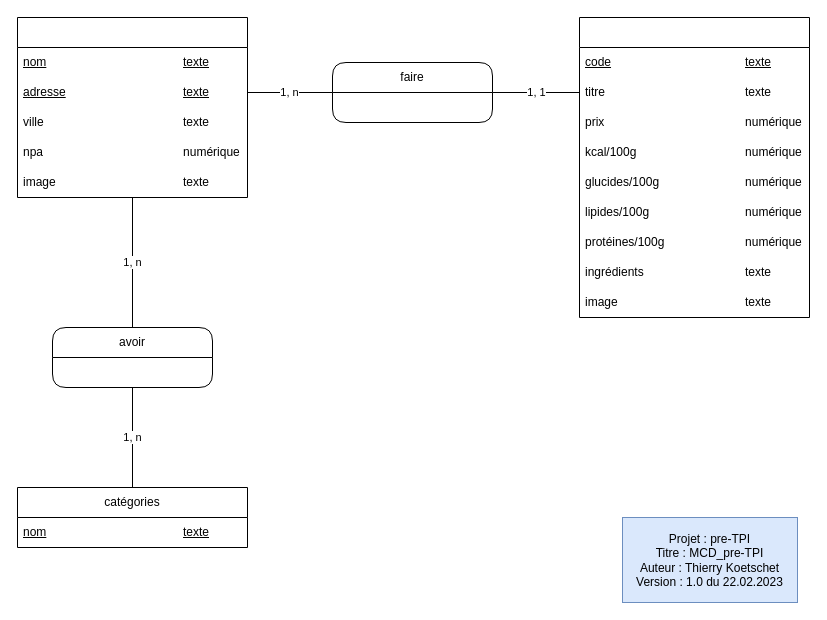
The diagram is 827 pixels wide and 620 high, and some of its shapes have lost their labels. Here are the shapes that lost their labels. From the top down, the box of each, then its label:
(16, 16, 248, 198): restaurants
(578, 16, 810, 318): repas
